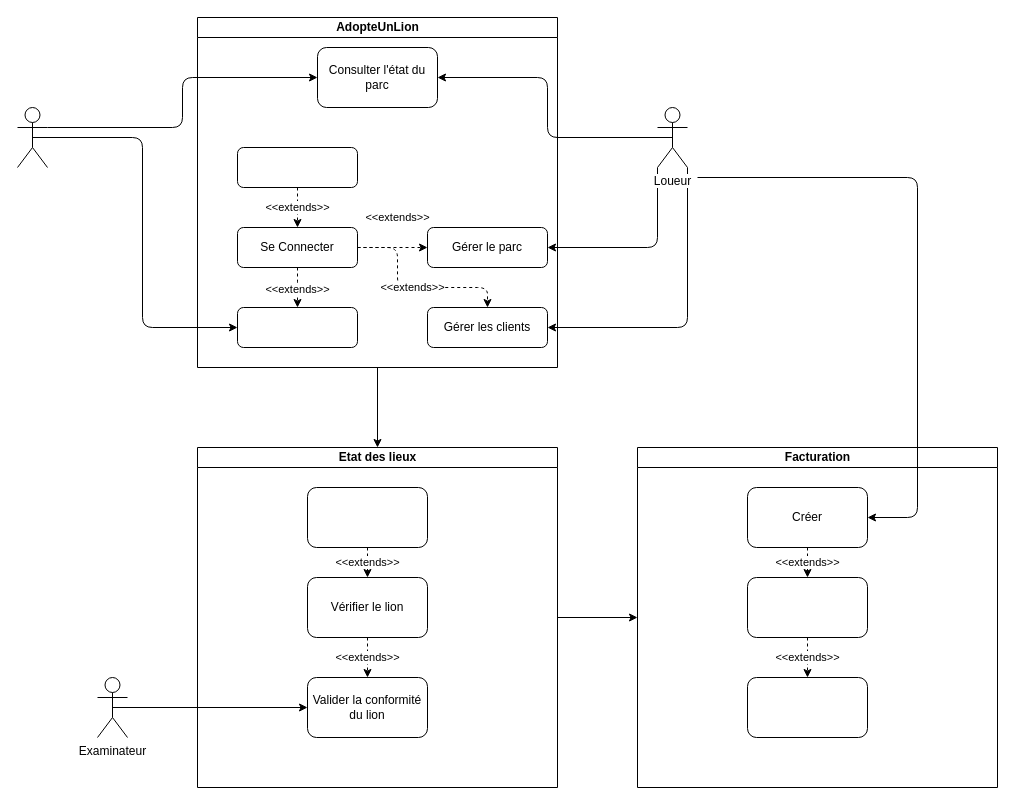
This 1015x805 diagram has some shape labels left out. Here are the shapes that lost their labels. From the top down, the centre of each, then its label:
(32,137): Client
(297,167): S'inscrire
(297,327): Louer
(367,517): Réceptionner le lion
(807,607): émettre
(807,707): Paiement
